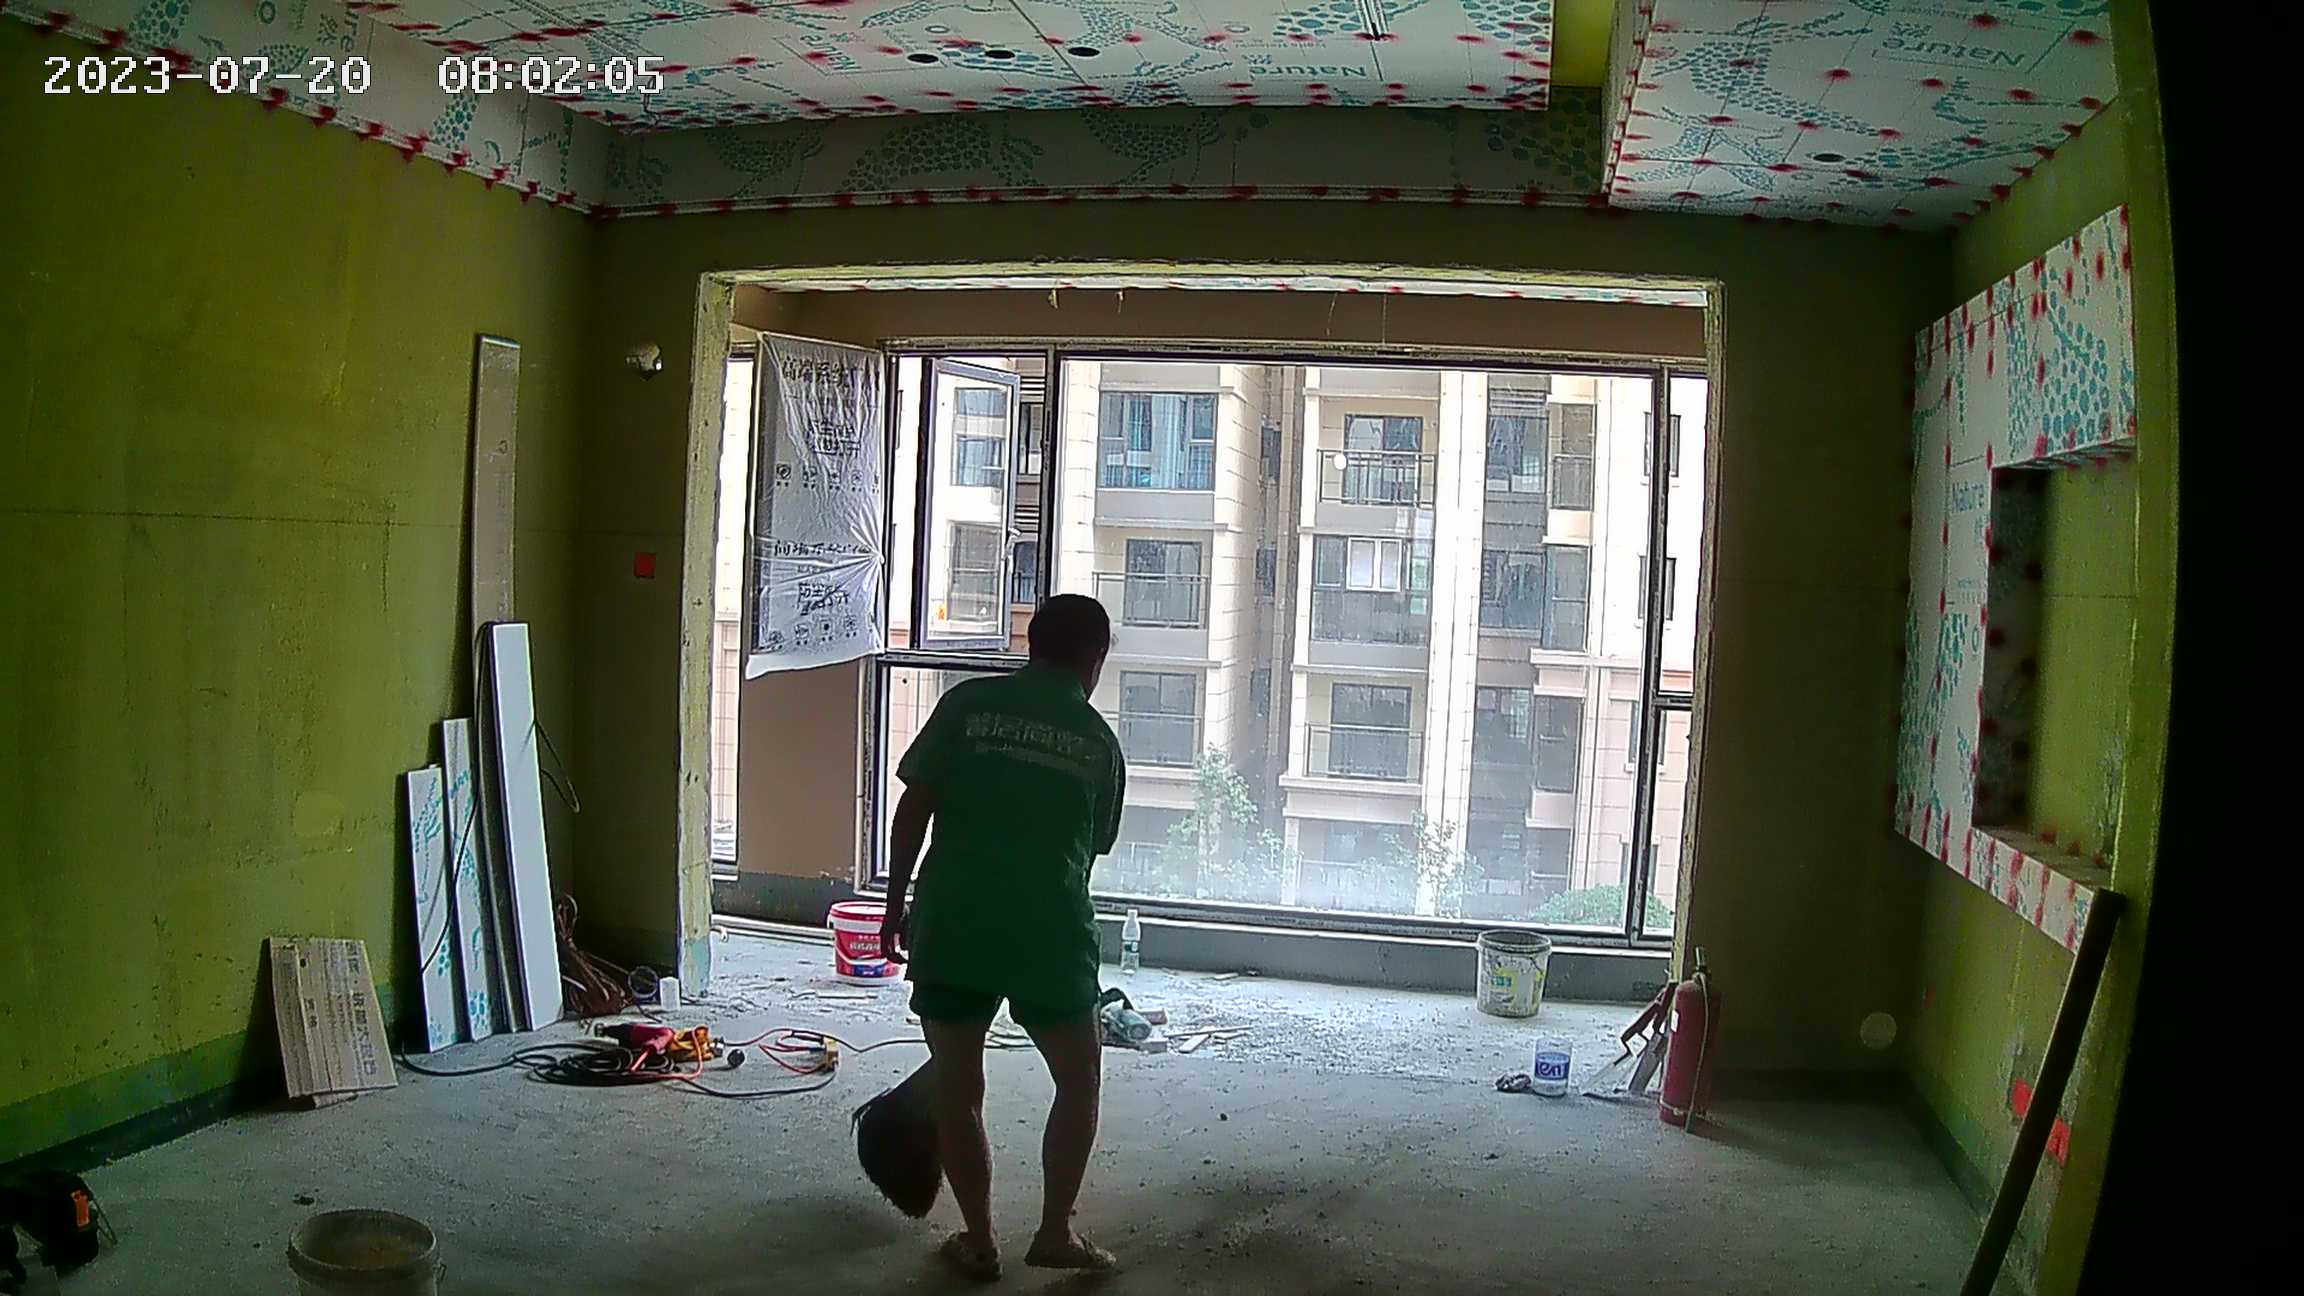people: (894, 580, 1152, 1288)
window: (888, 349, 1673, 950)
